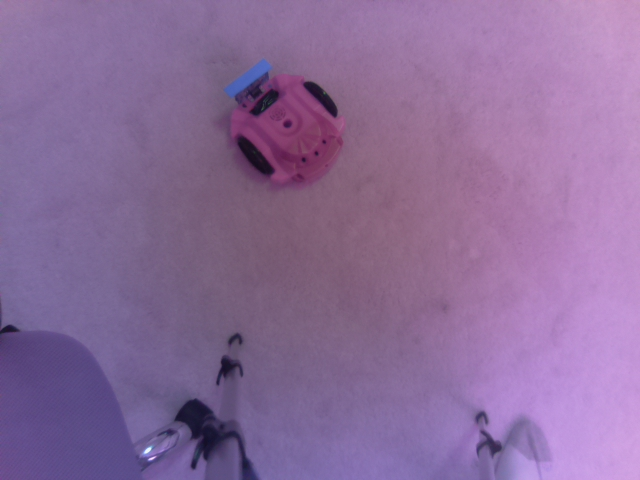board: (221, 54, 275, 107)
chassis: (218, 52, 351, 191)
